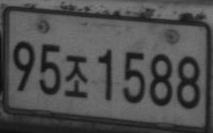1: (96, 48, 119, 101)
5: (121, 51, 146, 105), (38, 43, 61, 95)
8: (176, 55, 201, 109), (148, 52, 172, 106)
9: (12, 40, 35, 92)
조: (65, 54, 88, 98)
